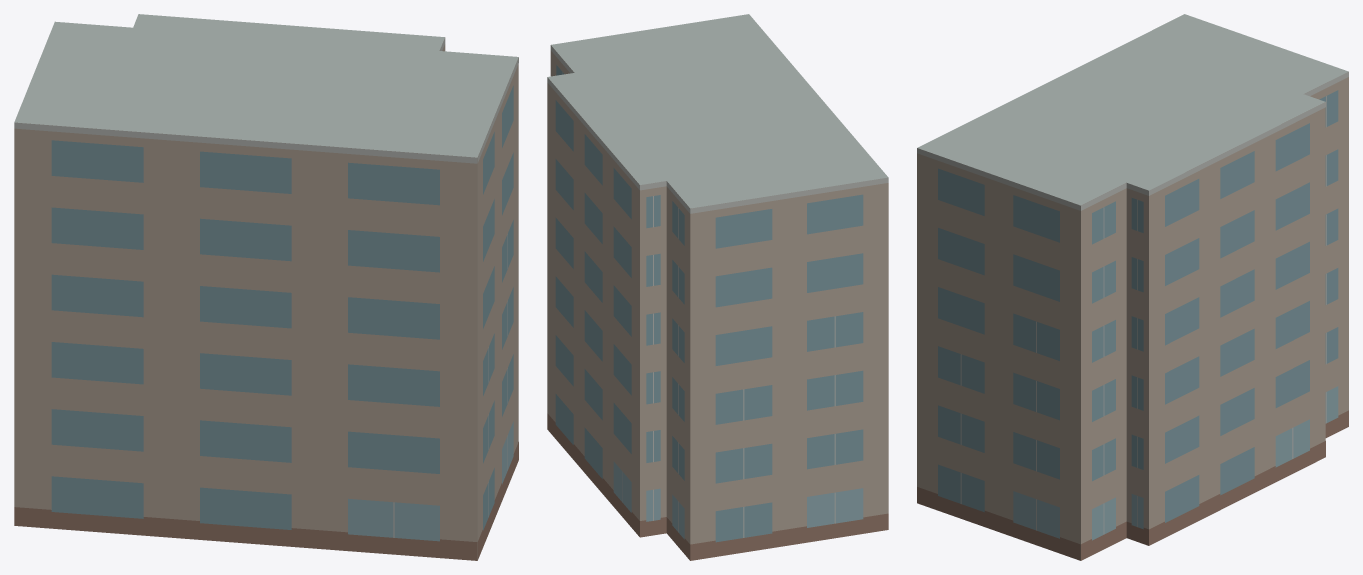
Rendered from survey-upis-33006766.glb.
The picture shows the model from 3 angles, left to right: view 1: azimuth 30°, elevation 25°; view 2: azimuth 150°, elevation 25°; view 3: azimuth 270°, elevation 25°; orthographic projection. The views are drawn at different scales.
Visible parts, largest first — view 1: survey-upis-33006766.tmp; view 2: survey-upis-33006766.tmp; view 3: survey-upis-33006766.tmp.
Boxes of the visible parts, x1,y1,x2,y2 form: survey-upis-33006766.tmp: (14,14,518,560); survey-upis-33006766.tmp: (547,14,888,560); survey-upis-33006766.tmp: (917,14,1348,560).
Bounding box in the file's own units: 18.74 × 16.2 × 17.85.
